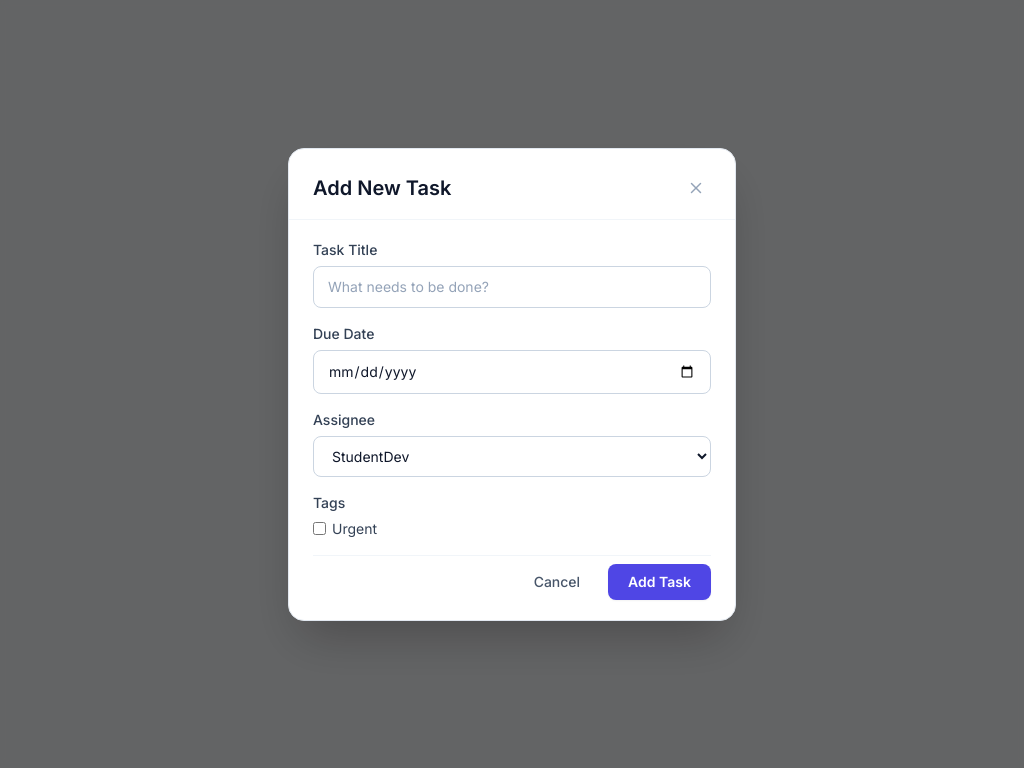
Scenario: TaskFormModal › shows an error and prevents saving if the title is under 3 characters
The image size is (1024, 768).
Type "Hi" into the field with placeholder "What needs to be done?".
click(512, 286); type("Hi")  # box top-left (313, 266), bottom-right (711, 308)
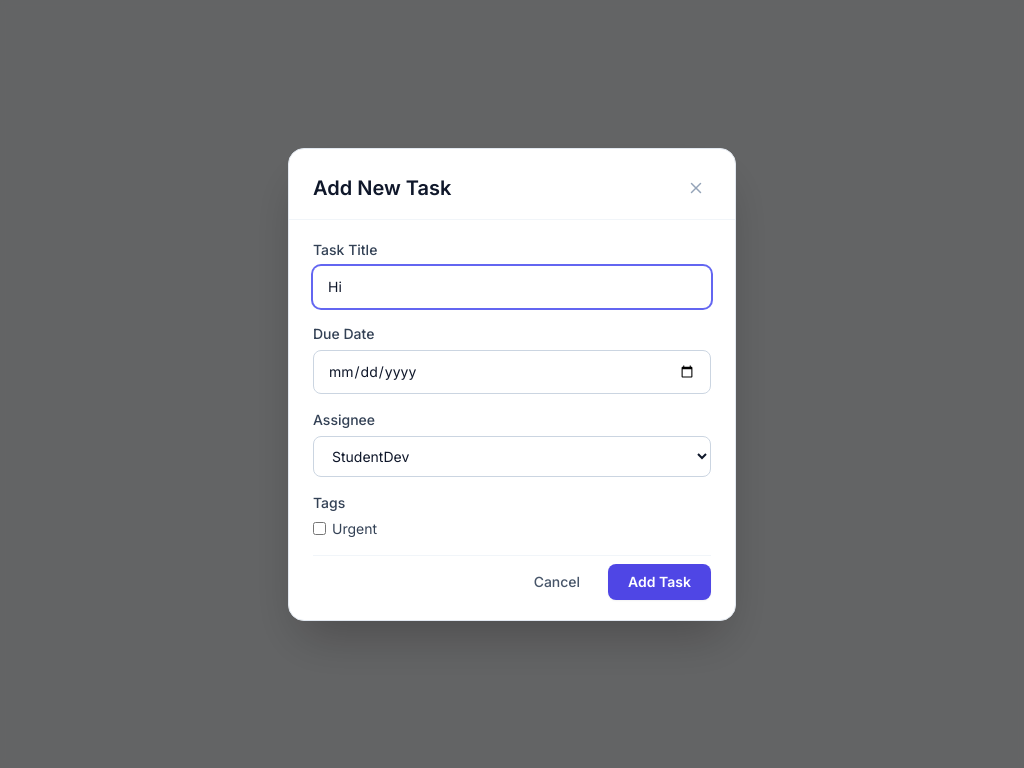
Type "2026-12-31" into the date field.
click(512, 372); type("2026-12-31")  # box top-left (313, 350), bottom-right (711, 394)
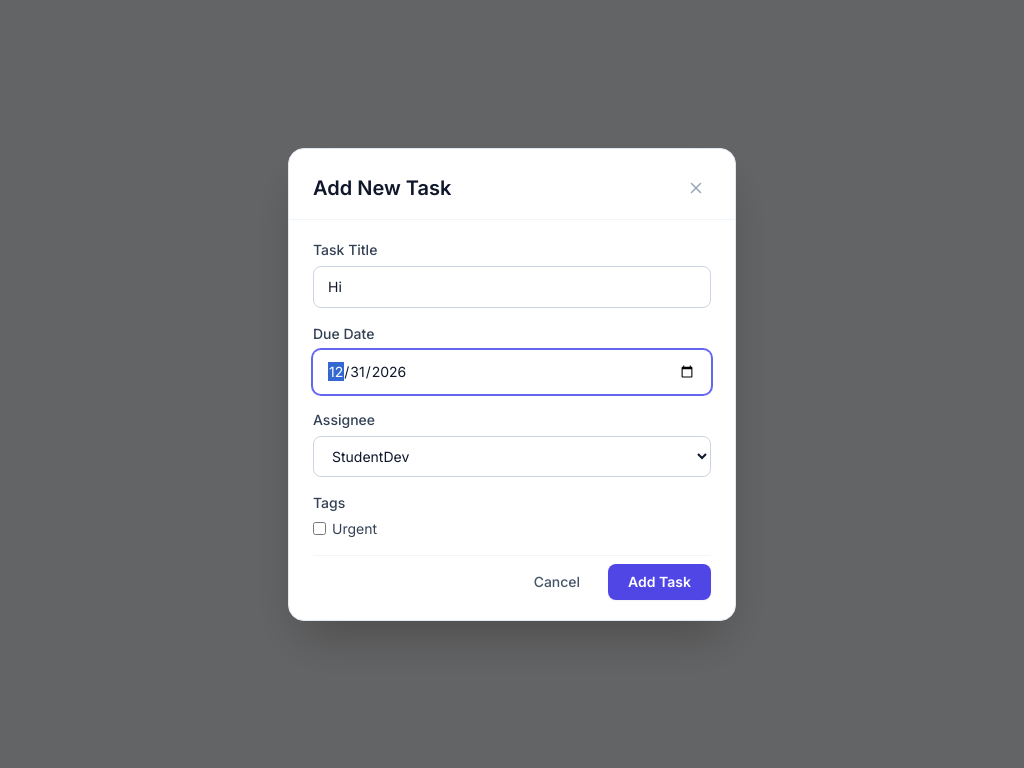
Click the button "Add Task".
click(660, 582)  # box top-left (608, 564), bottom-right (711, 600)
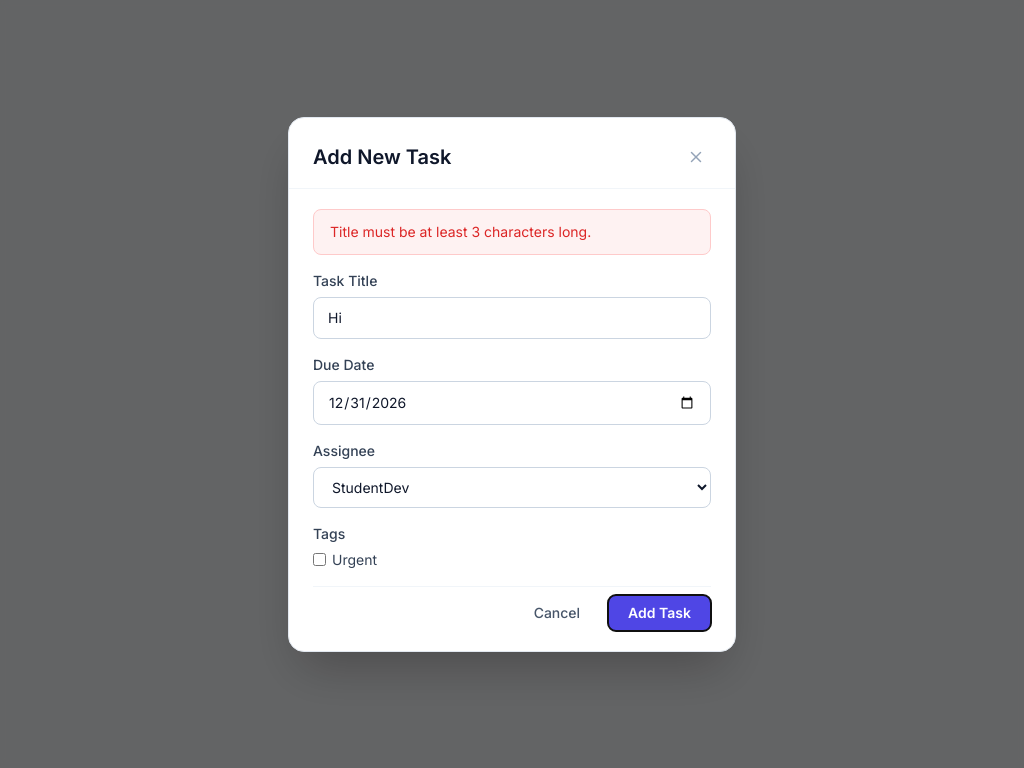
Expected: the text "Title must be at least 3 characters long." is shown, top-left (313, 208), bottom-right (711, 254)
